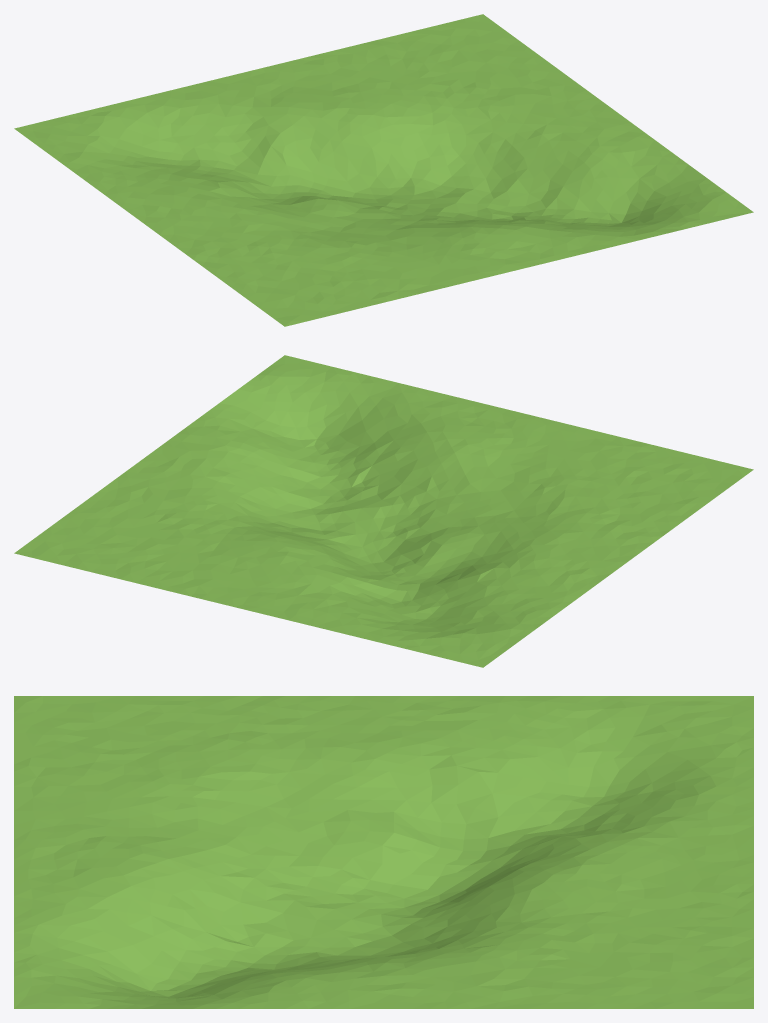
The model's file is MT_Terrain_L_b_15_LOD.fbx.
3 renders of one model, top to bottom at view 1: azimuth 30°, elevation 25°; view 2: azimuth 150°, elevation 25°; view 3: azimuth 270°, elevation 25°, orthographic. The views are drawn at different scales.
Parts seen in each view (by area): view 1: MT_Terrain_L_b_15_LOD0; view 2: MT_Terrain_L_b_15_LOD0; view 3: MT_Terrain_L_b_15_LOD0.
Part boxes in pixels (<box>): MT_Terrain_L_b_15_LOD0: <box>14,14,753,326</box>; MT_Terrain_L_b_15_LOD0: <box>14,355,753,667</box>; MT_Terrain_L_b_15_LOD0: <box>14,696,753,1008</box>.
Size of what is drawn, in the model's own units: 10000 by 776 by 10000.
